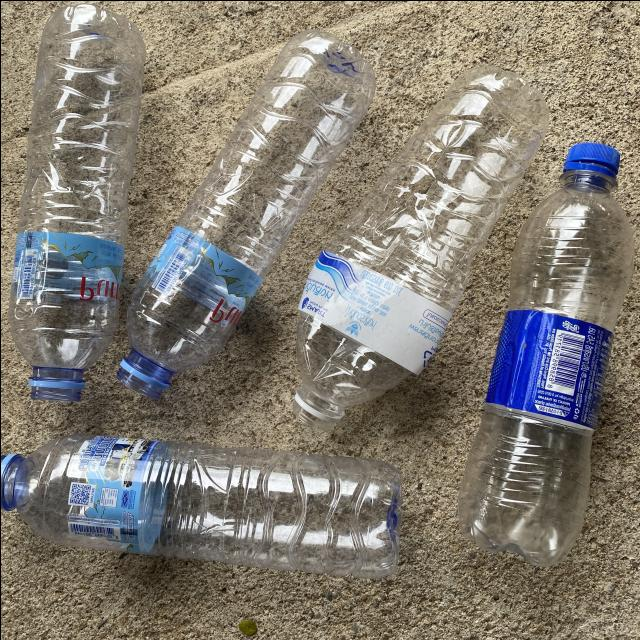plastik: (116, 29, 375, 398), (293, 65, 548, 430), (458, 142, 632, 565), (0, 434, 401, 577), (7, 4, 144, 401)
